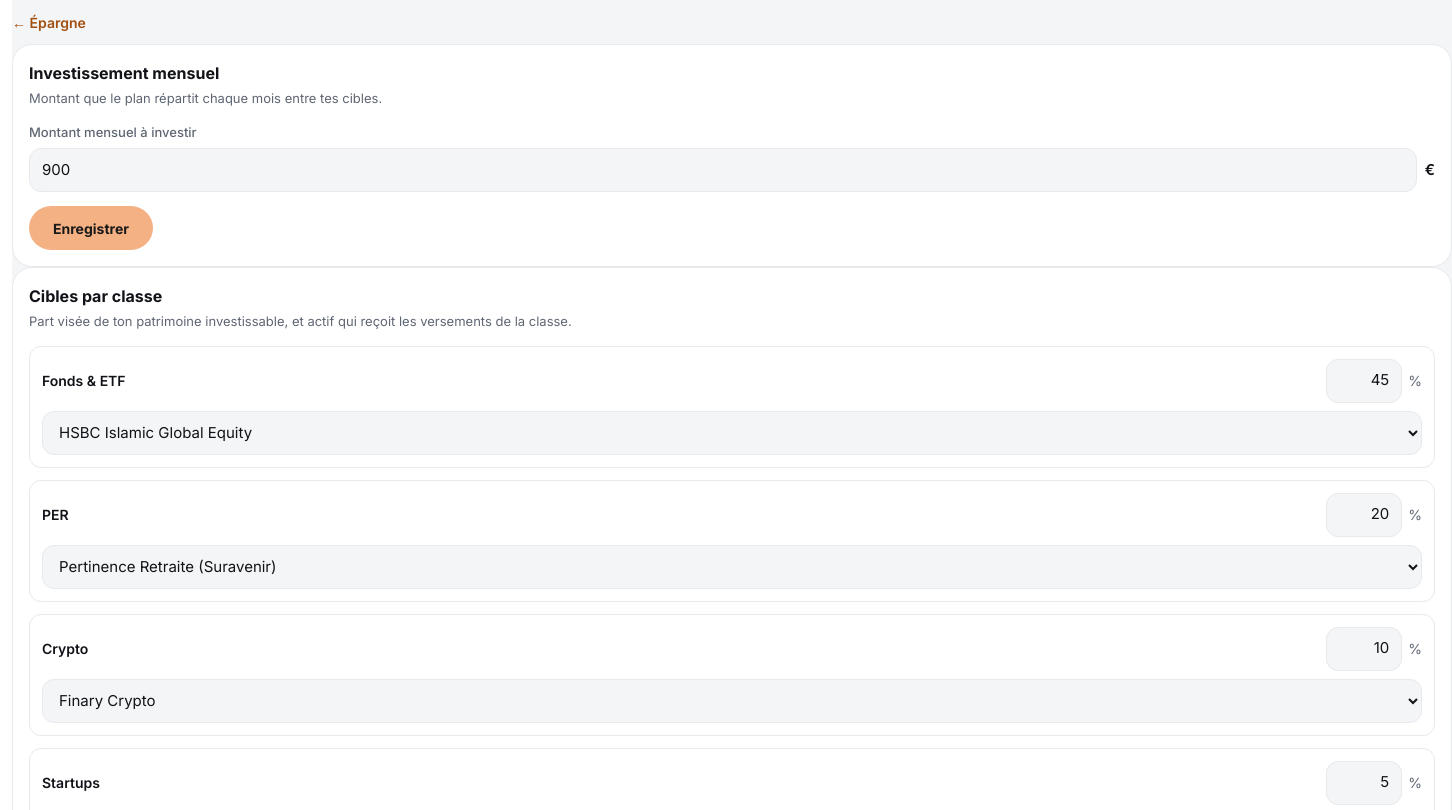
StrategieView — investissement mensuel › refuse un montant illisible sans appeler le serveur
Replace the text in the field labelled "Montant mensuel à investir" with "abc" at (723, 170), box [29,148,1417,192]
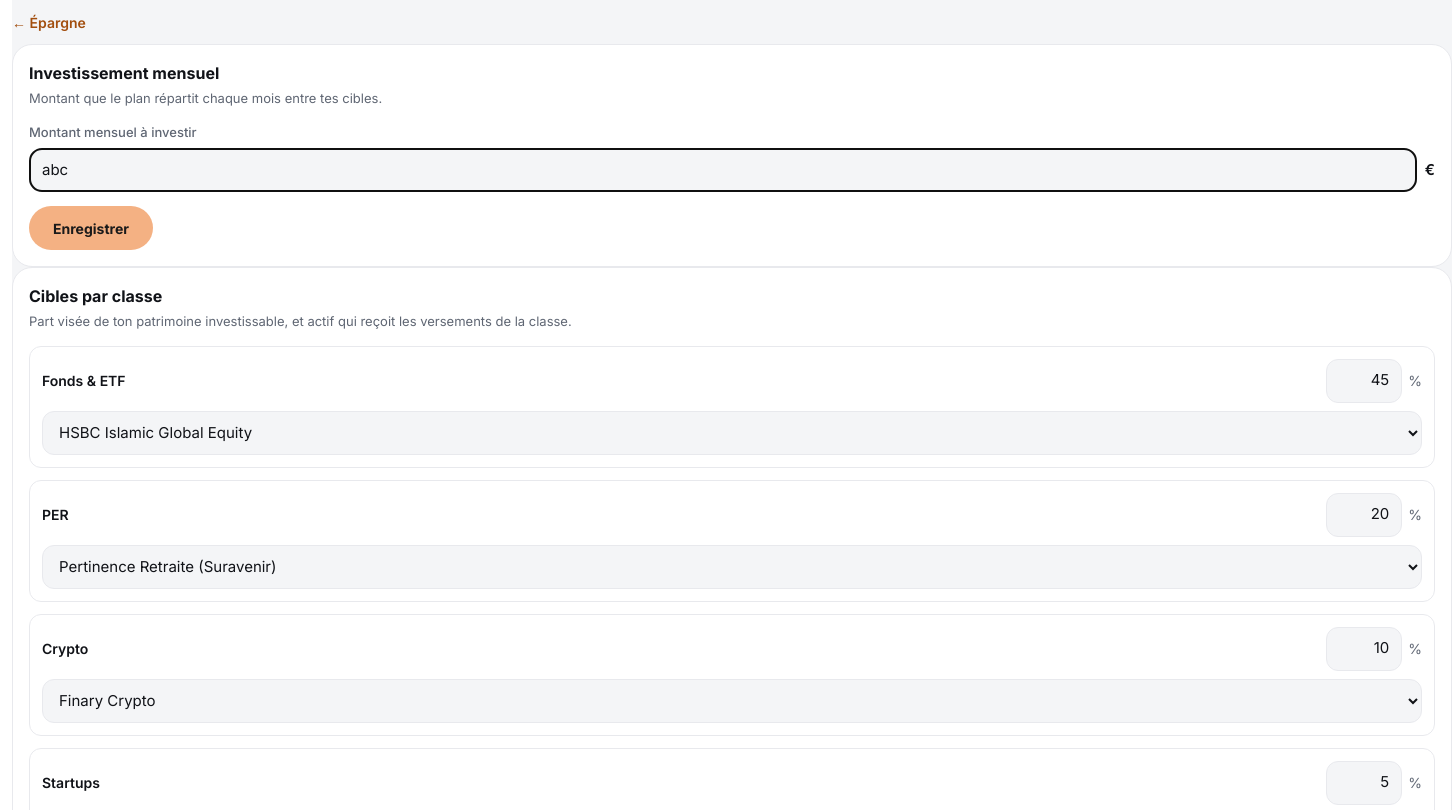
Click the button "Enregistrer" at (91, 228), box [29,206,153,250]
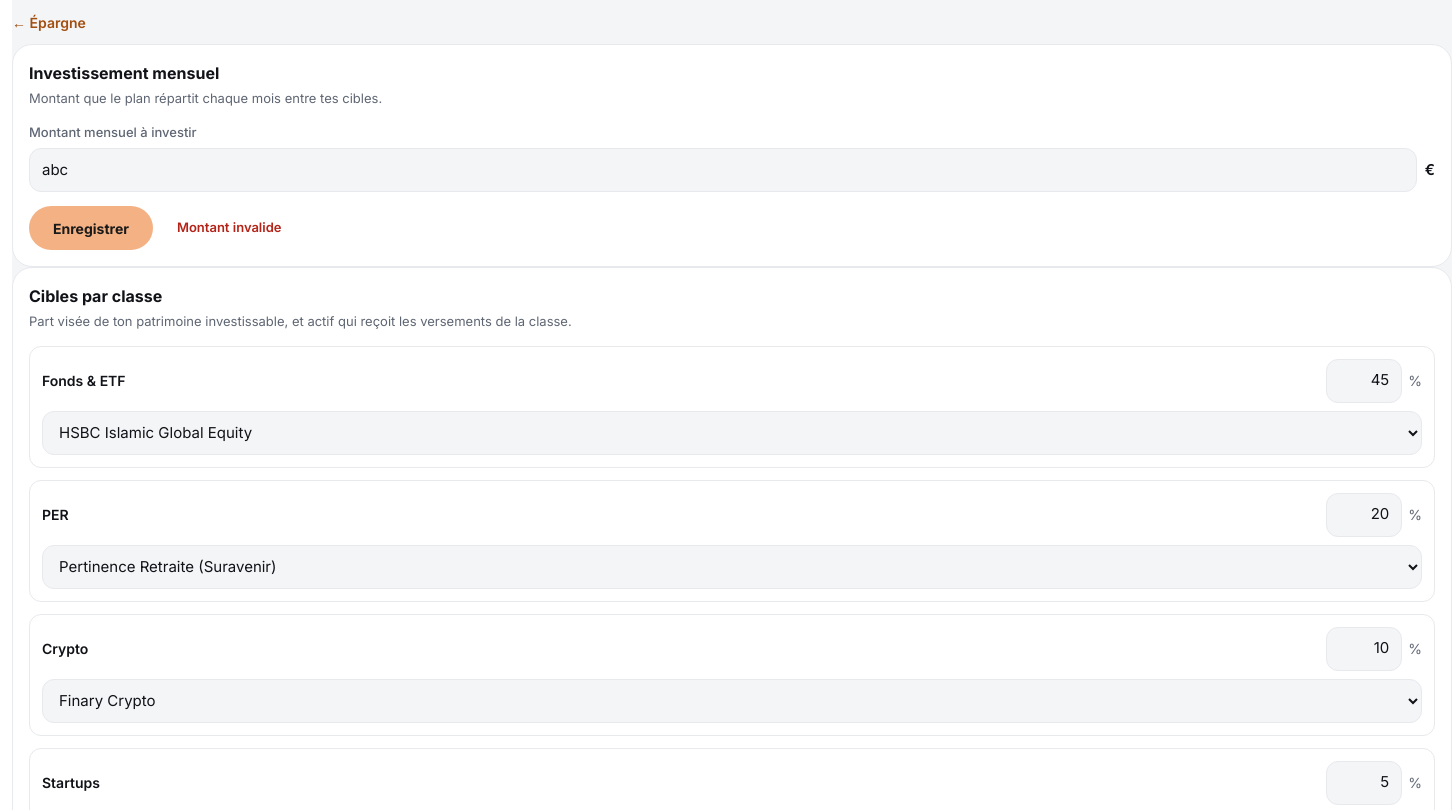
expect the text "Montant invalide" is shown: met, box [177,218,281,238]
